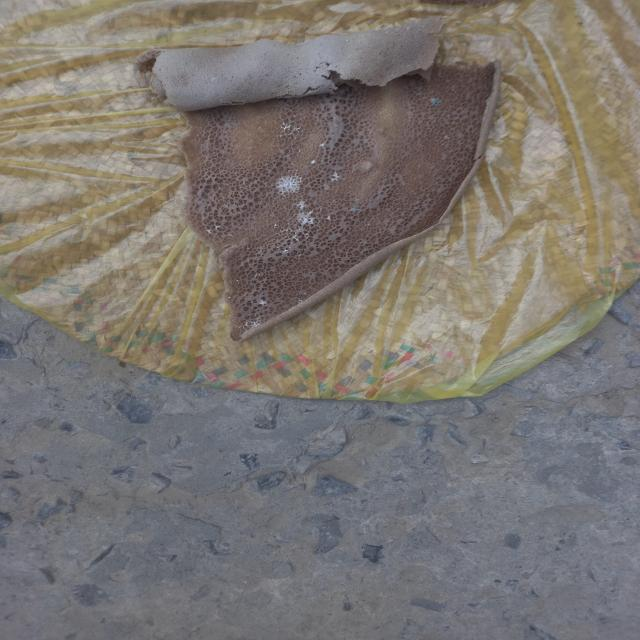injera_mold: (270, 172, 304, 198), (294, 202, 314, 228), (278, 123, 306, 139), (427, 94, 441, 110), (328, 170, 341, 182), (238, 322, 264, 327), (256, 298, 268, 306), (289, 235, 301, 242), (280, 247, 292, 254), (345, 37, 353, 46), (348, 205, 358, 212), (209, 76, 217, 84), (324, 215, 333, 222), (394, 27, 412, 30), (304, 231, 311, 238), (296, 298, 304, 304), (296, 291, 308, 295), (383, 28, 389, 35), (282, 229, 296, 232), (318, 143, 326, 148), (298, 248, 308, 252), (309, 160, 318, 164), (206, 230, 214, 234), (242, 329, 250, 333), (440, 138, 444, 146), (273, 224, 279, 229), (287, 170, 302, 172), (214, 225, 221, 229), (234, 279, 240, 283), (297, 254, 302, 258), (255, 274, 260, 278), (228, 296, 232, 301), (226, 118, 230, 123), (228, 234, 234, 237), (268, 242, 274, 245), (292, 114, 296, 118), (334, 124, 338, 128), (298, 149, 302, 153), (255, 314, 257, 316)
